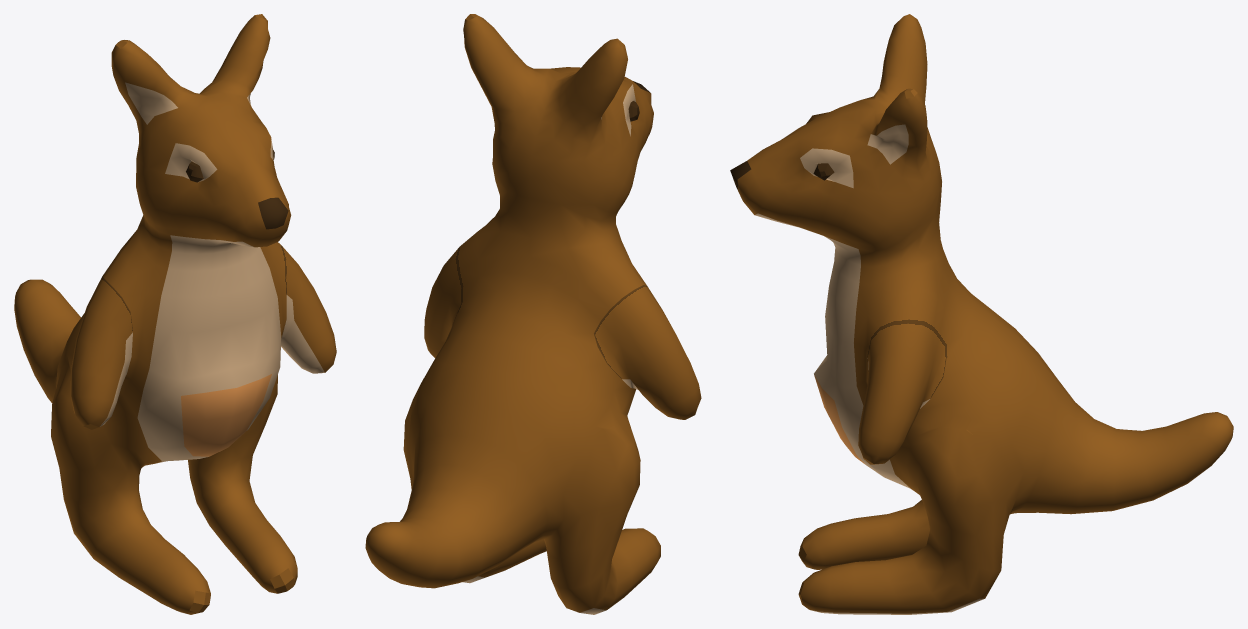
Rendered from Powerup_Skippy_Kangaroo.FBX.
3 views of the same model, side by side, from view 1: azimuth 30°, elevation 25°; view 2: azimuth 150°, elevation 25°; view 3: azimuth 270°, elevation 25° (orthographic). The views are drawn at different scales.
Parts seen in each view (by area): view 1: Powerup_Skippy_Kangaroo; view 2: Powerup_Skippy_Kangaroo; view 3: Powerup_Skippy_Kangaroo.
Boxes of the visible parts, <box> form: Powerup_Skippy_Kangaroo: <box>14,14,336,614</box>; Powerup_Skippy_Kangaroo: <box>365,14,701,614</box>; Powerup_Skippy_Kangaroo: <box>730,14,1233,614</box>.
Bounding box in the file's own units: 23.53 × 47.43 × 39.92.
